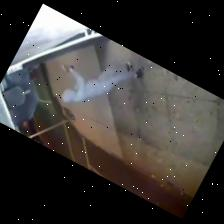person: (62, 62, 143, 102)
